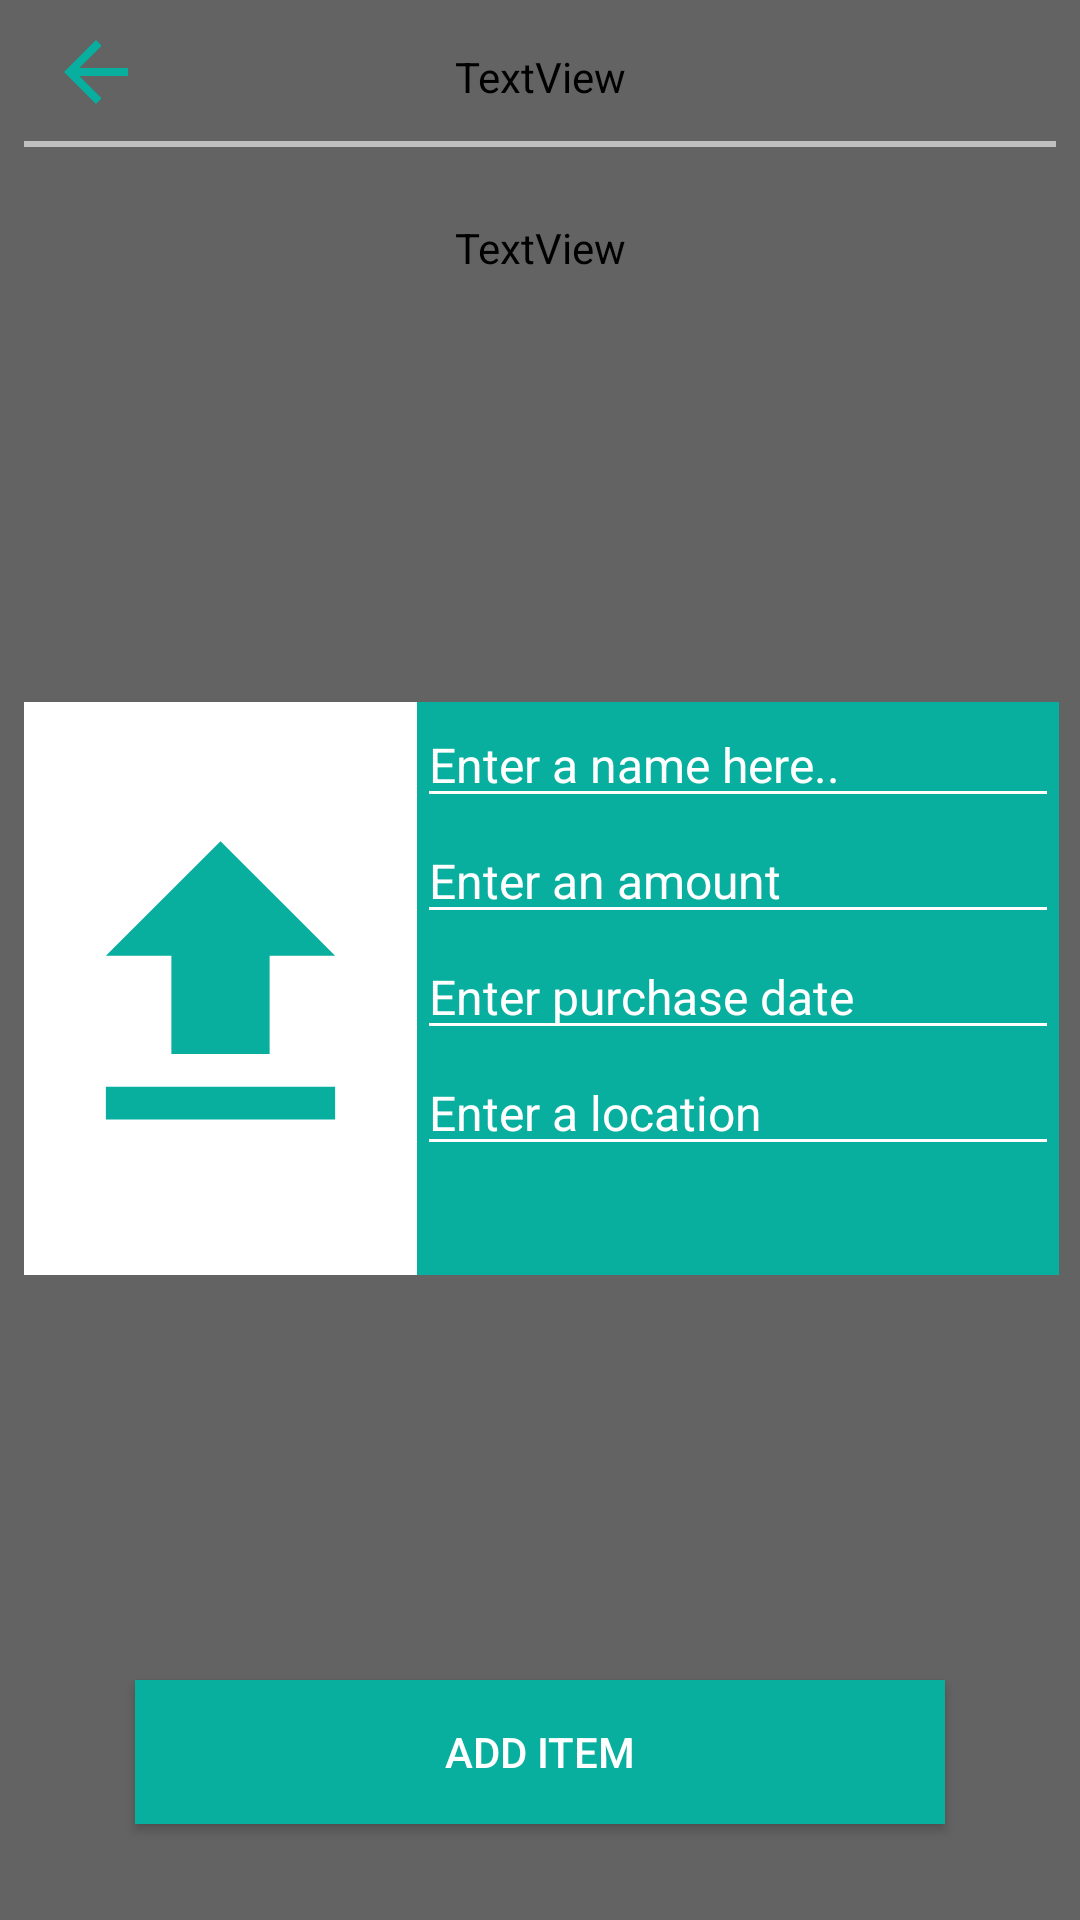

Icons on this 1080*1920 Android screen, each with the point to tap as (x=x, y=y):
arrow back mintgreen: (x=96, y=72)
